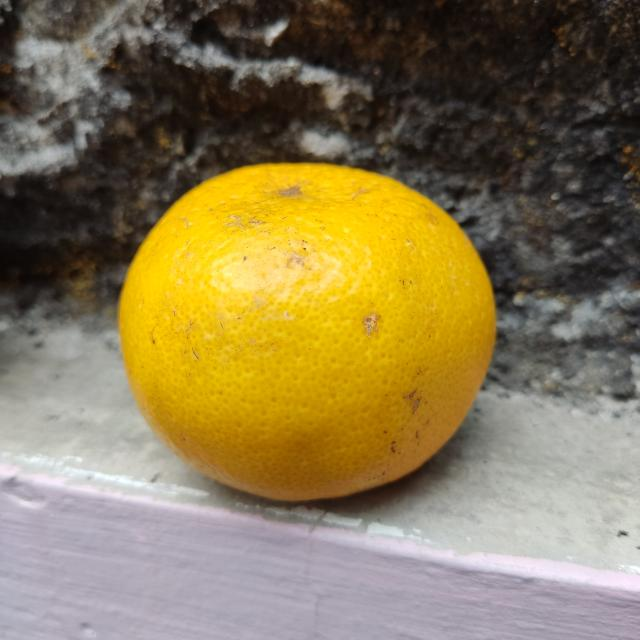orange: (113, 160, 504, 510)
